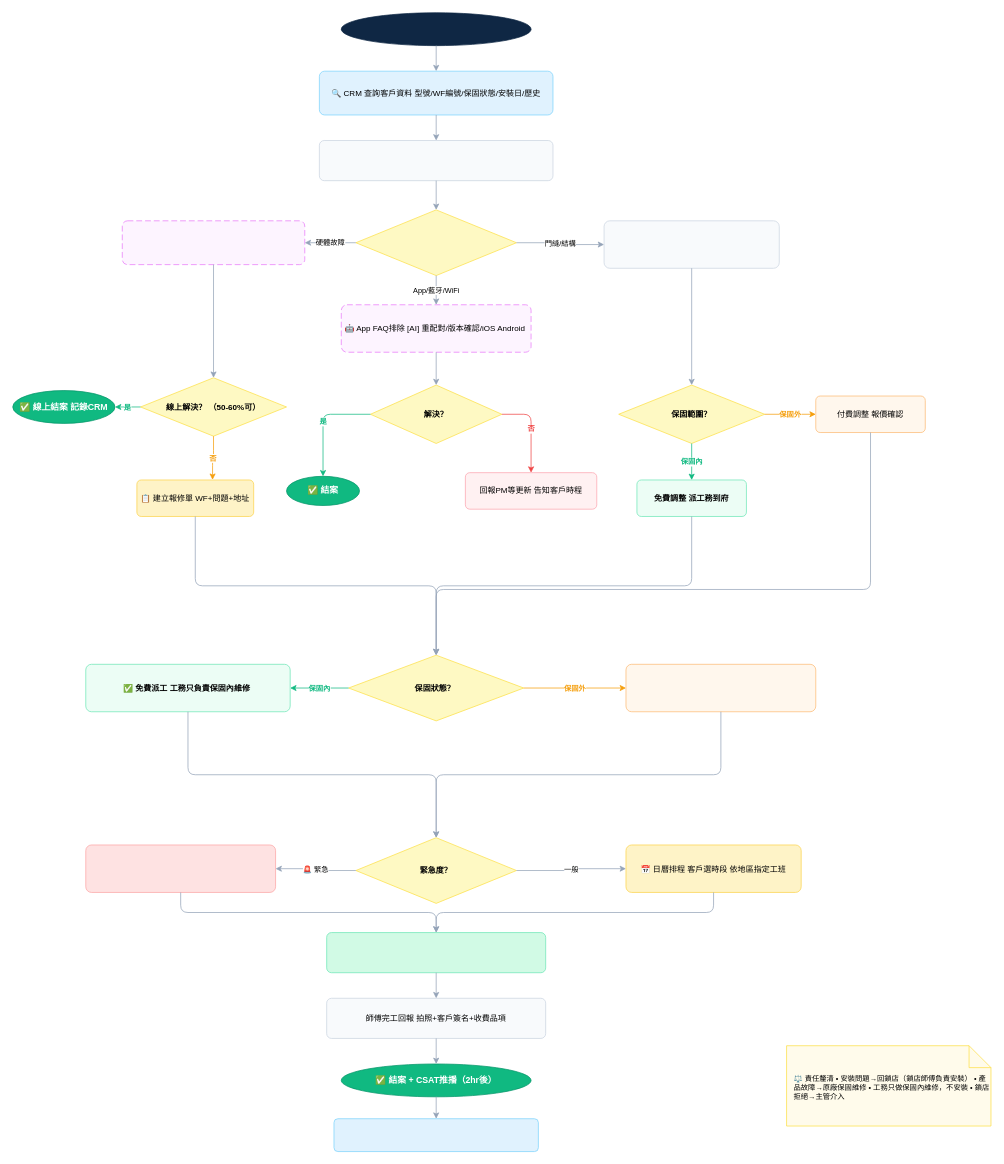
The diagram is 1004 pixels wide and 1164 high, and some of its shapes have lost their labels. The box of each missing label's shape, as (x1, y1, x2, y2) in pixels:
問題類型？: (355, 209, 516, 276)
門縫/結構問題 產品瑕疵 vs 外部因素 (地震/地板/門框): (603, 220, 779, 268)
開始：客戶報修進線: (341, 12, 531, 46)
💰 告知收費需現場報價 客戶確認後才派工: (625, 664, 816, 712)
📋 CRM 更新完整服務歷程: (333, 1118, 538, 1152)
📝 收集報修資訊 問題描述+型號照片+地址+是否緊急: (319, 140, 553, 181)
📱 LINE 推播師傅資訊 [🤖自動] 師傅姓名+預計到達時間: (326, 932, 546, 973)
🚨 廣播工班 ≤30分鐘派出 無回應→客服介入: (85, 844, 276, 892)
🤖 線上排除引導 [AI] 電池/9V/重設密碼/設定卡: (122, 220, 305, 265)
